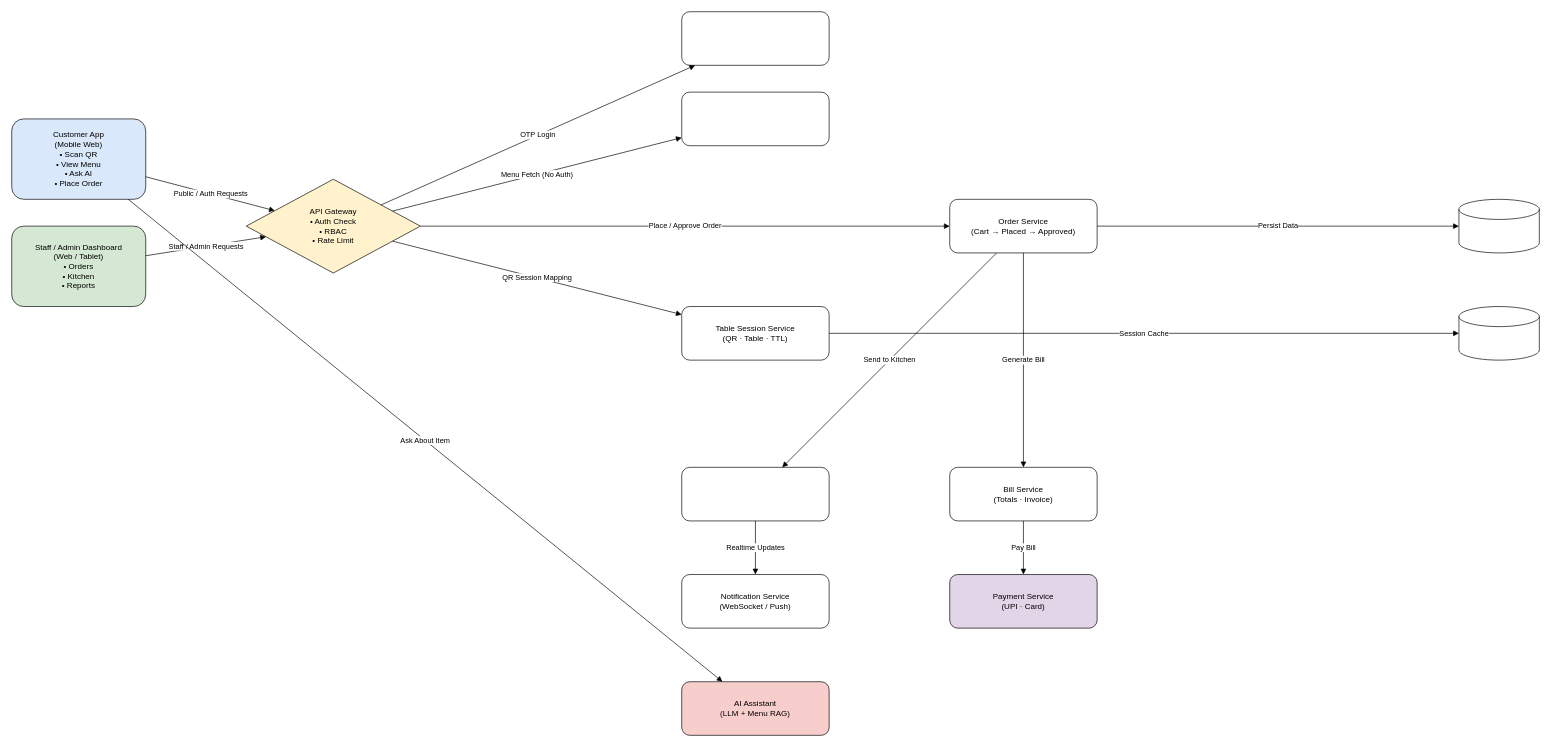
This 1551x747 diagram has some shape labels left out. The shapes that lost their labels are listed below. From the top down, each one's centre as x and y in pixels, then its label:
At (755,38): "Auth Service (OTP · JWT)".
At (755,118): "Menu Service (Items · Prices · Ratings)".
At (1498,226): "PostgreSQL (Prisma ORM)".
At (1498,333): "Redis (Session · Cart)".
At (755,494): "Kitchen Workflow (Preparing → Ready)".
